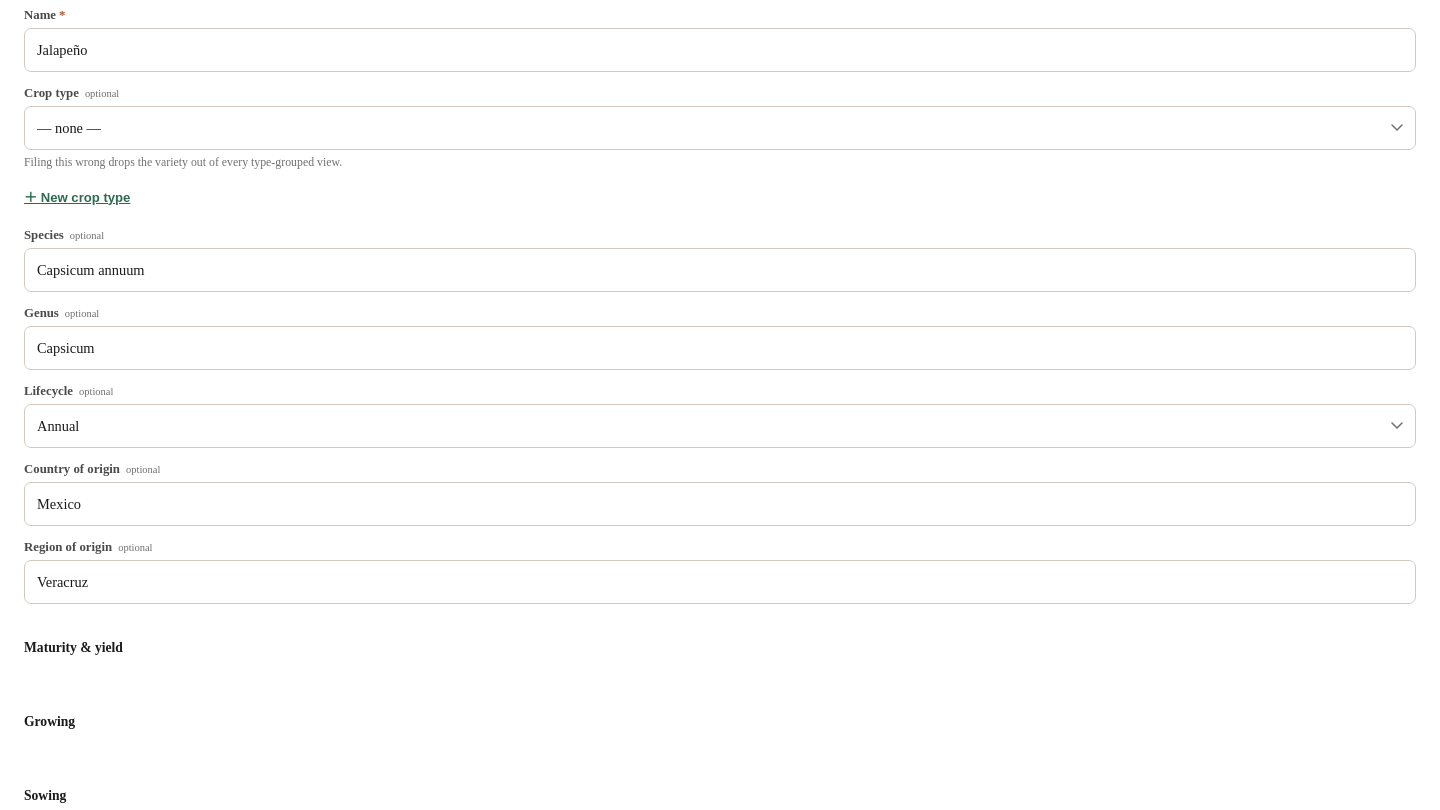
Test: VarietyEditor — inline crop-type mint (CROPTYPEREACH) › a server steer to an existing type offers adopting it, and adopting selects that slug
Click the button "＋ New crop type" at (77, 192), box [24,170,130,214]
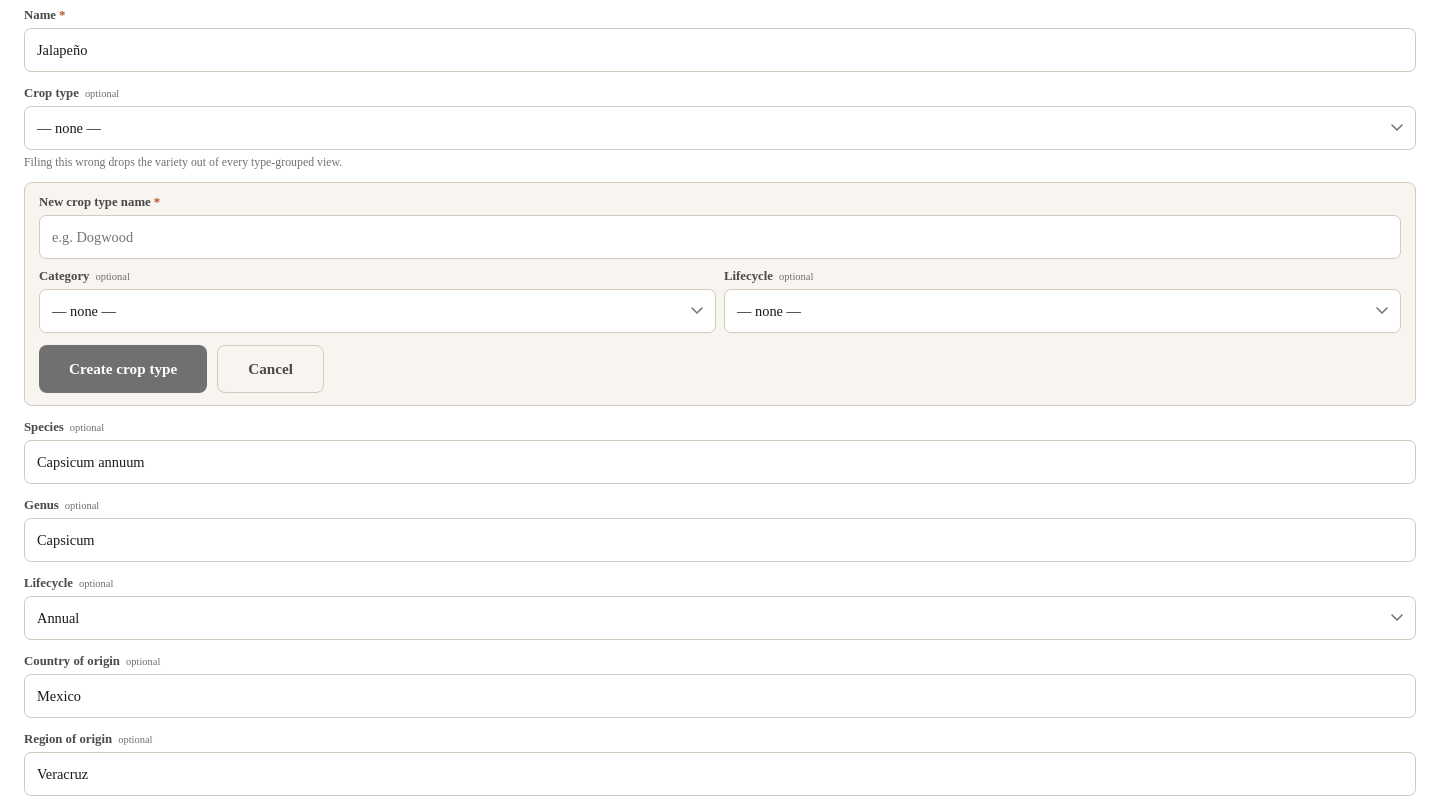
Type "Chili" into the field with placeholder "e.g. Dogwood" at (720, 237), box [39,215,1401,259]
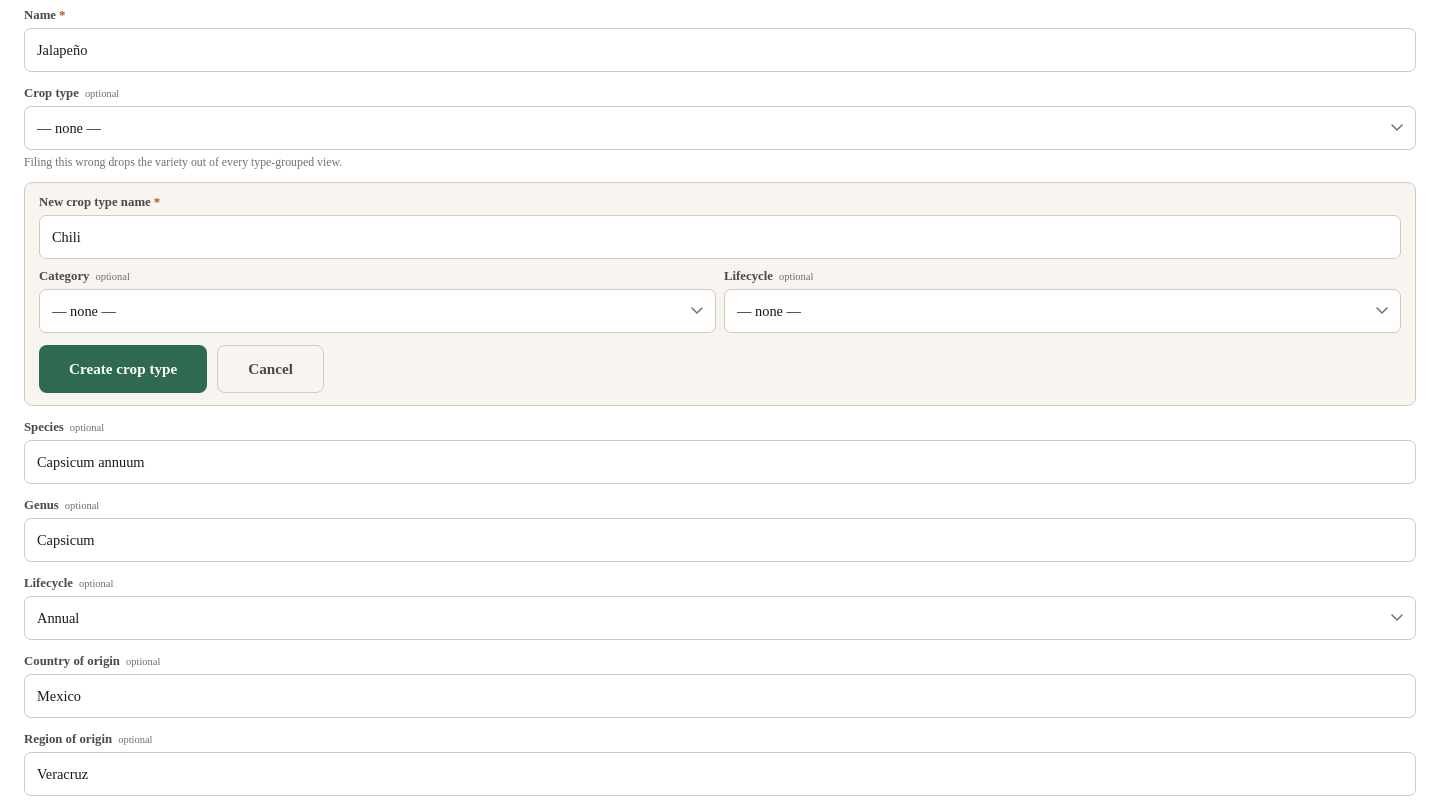
Click the button "Create crop type" at (123, 369), box [39,345,207,393]
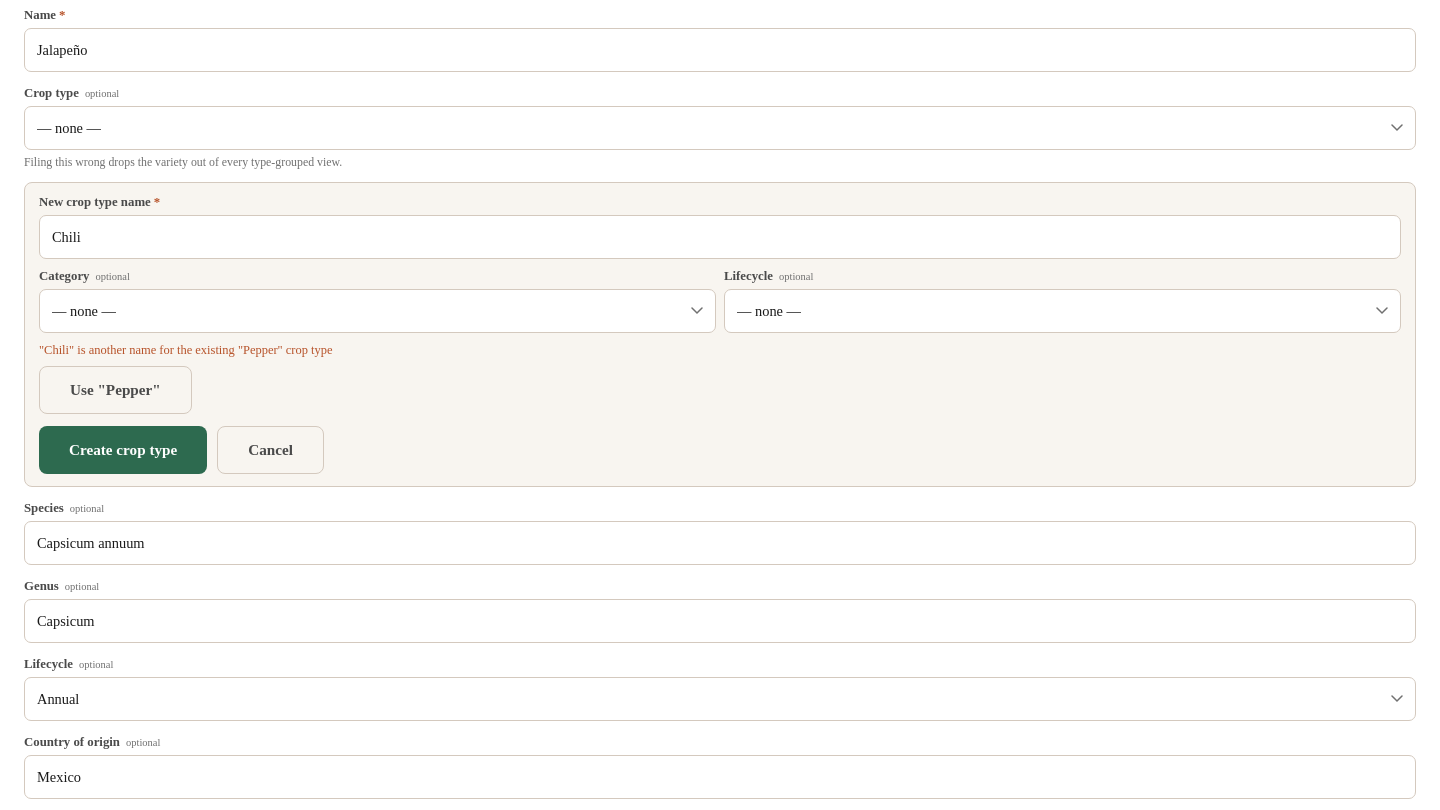
Expected: the message "\"Chili\" is another name for the existing \"Pepper\" crop type Use \"Pepper\"" is shown, [39,343,333,414]
Click the button "Use \"Pepper\"" at (115, 390), box [39,366,192,414]
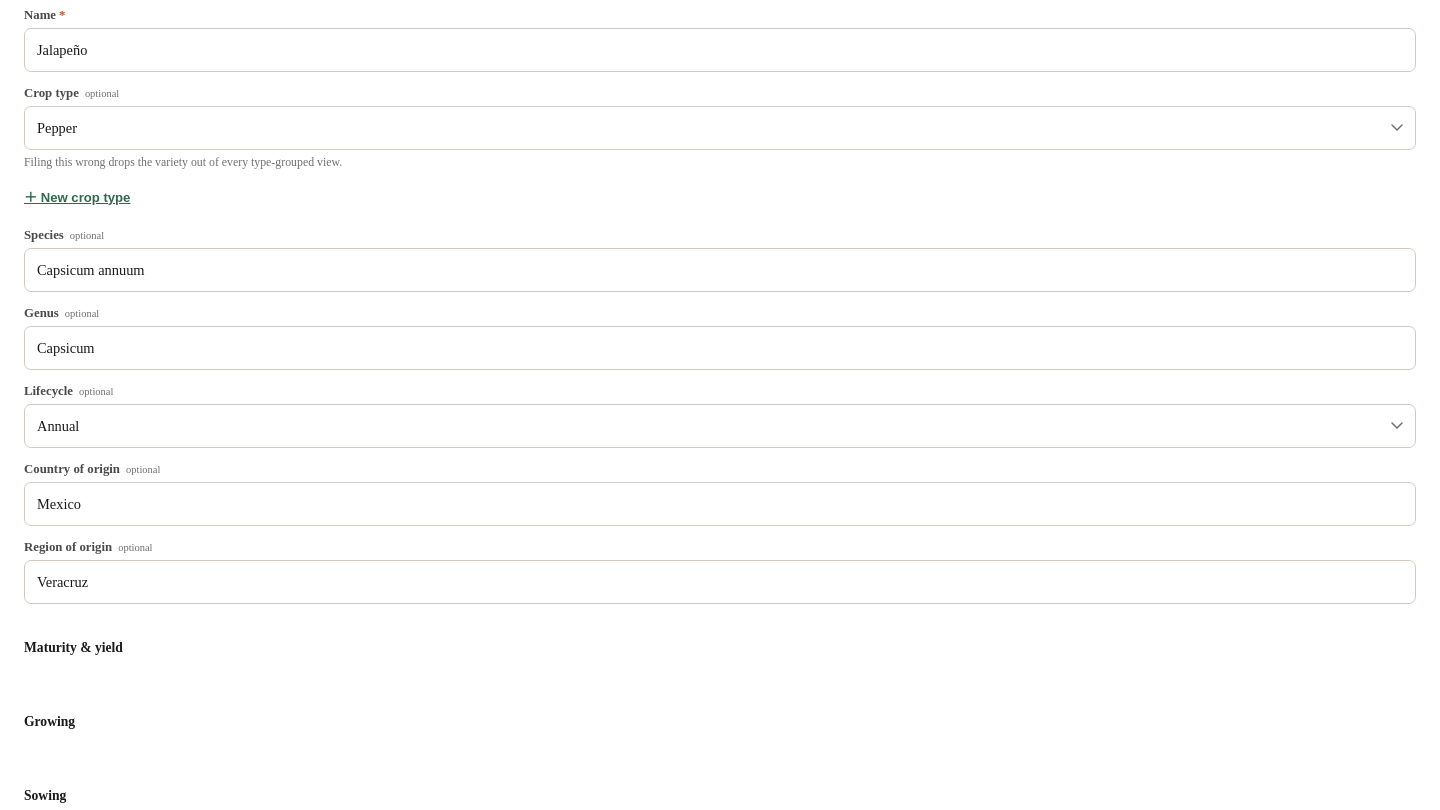
Expected: the dropdown labelled "Crop type" shows "Pepper", [24,106,1416,150]
